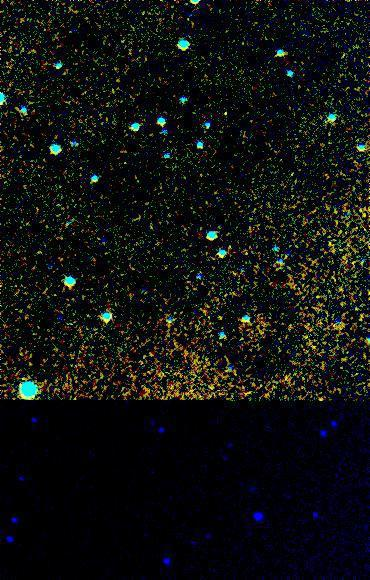star: (212, 97, 242, 127)
